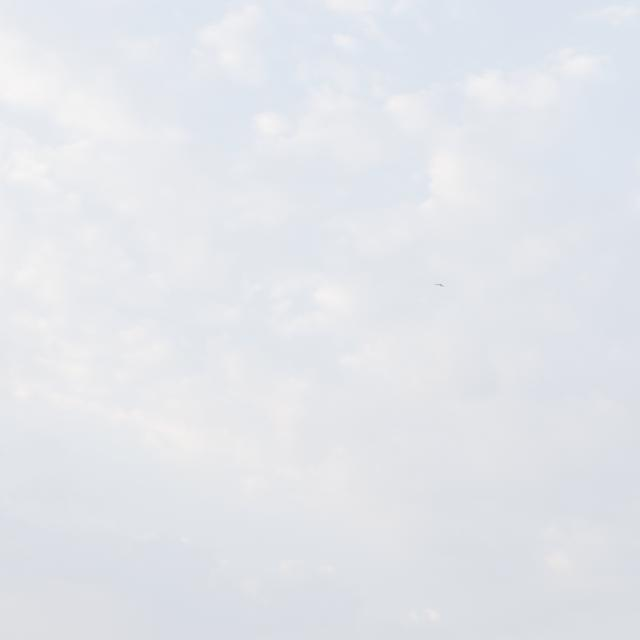Airaplan: (432, 283, 445, 287)
